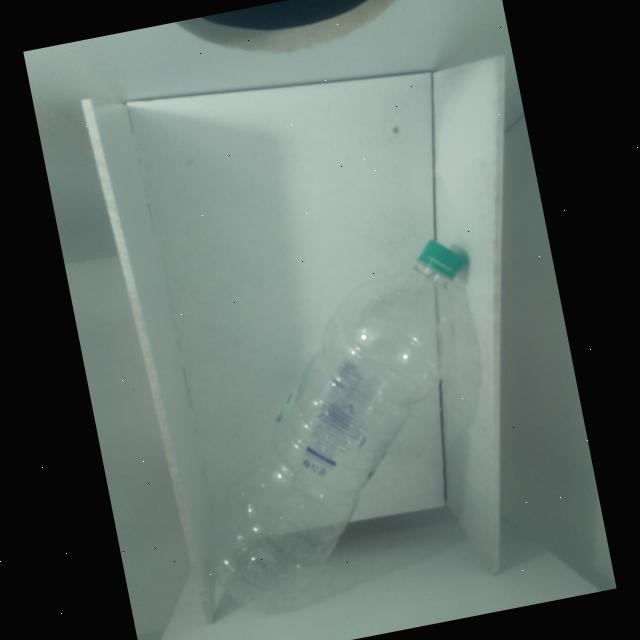trash: (148, 225, 532, 633)
